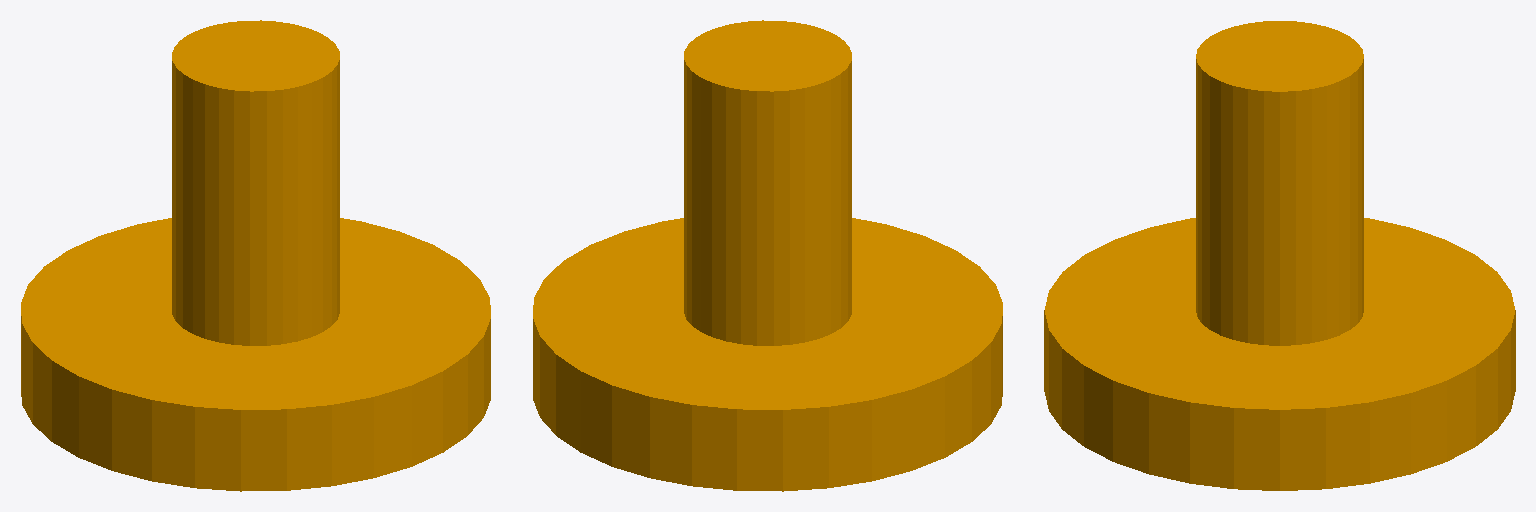
robot.urdf — gear_42:
<?xml version="1.0"?>
<robot name="gear_42">
  <link name="base_link">
    <visual>
      <origin xyz="0 0 0.004"/>
      <geometry>
        <cylinder radius="0.021" length="0.008"/>
      </geometry>
    </visual>
    <visual>
      <origin xyz="0 0 0.0205"/>
      <geometry>
        <cylinder radius="0.0075" length="0.025"/>
      </geometry>
    </visual>
  </link>
</robot>

--- What the picture shows (computed from the rendered views, not written in the file) ---
3 views of the same robot in one strip: view 1: azimuth 30°, elevation 25°; view 2: azimuth 150°, elevation 25°; view 3: azimuth 270°, elevation 25° (orthographic).
Robot: gear_42 — 1 links, 0 joints (none); root link base_link; default pose: every joint at zero.
Links seen in each view (by area): view 1: base_link; view 2: base_link; view 3: base_link.
Boxes of the visible links, x1,y1,x2,y2 form: base_link: (21, 20, 490, 491); base_link: (533, 20, 1002, 491); base_link: (1044, 21, 1515, 490).
Size in the robot's own frame: 0.042 by 0.042 by 0.033 metres.
Geometry: primitives only (box / cylinder / sphere), no mesh files.
